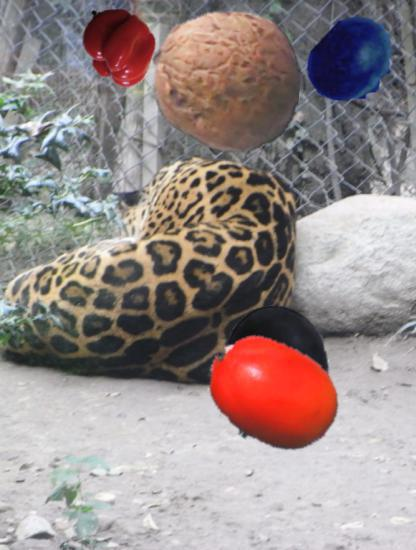Grape: (222, 305, 331, 414)
Huckleberry: (306, 15, 400, 109)
Kaki: (203, 325, 342, 464)
Pepper: (78, 5, 159, 86)
Walnut: (151, 6, 301, 156)
